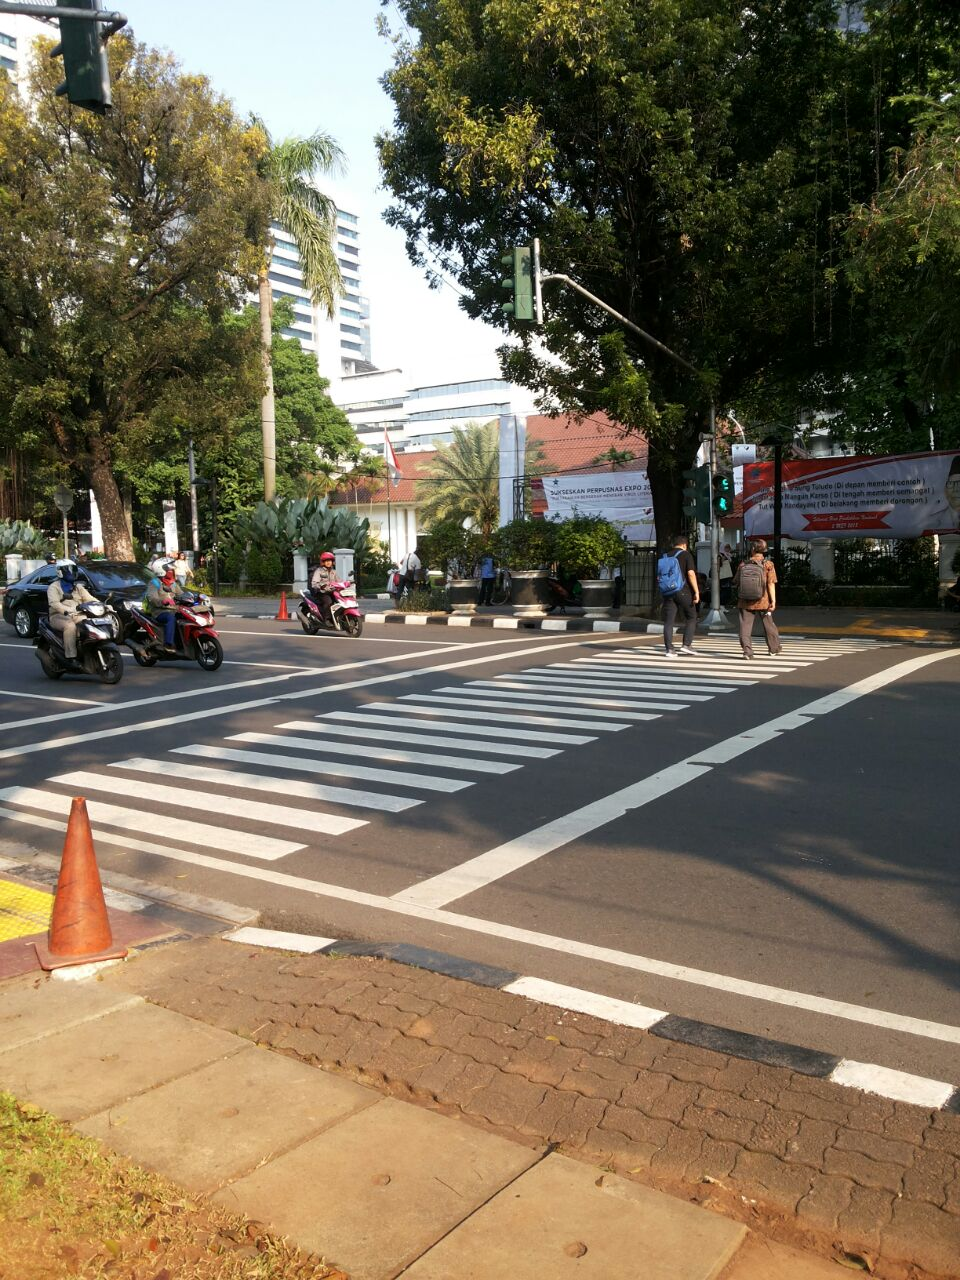bollard: (36, 791, 124, 990), (271, 591, 293, 624)
zebracross: (107, 688, 679, 850)
